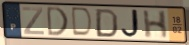D: (71, 6, 95, 39), (46, 5, 70, 38), (95, 8, 120, 39)
H: (142, 10, 169, 40)
J: (120, 8, 143, 40)
Z: (21, 6, 46, 36)
